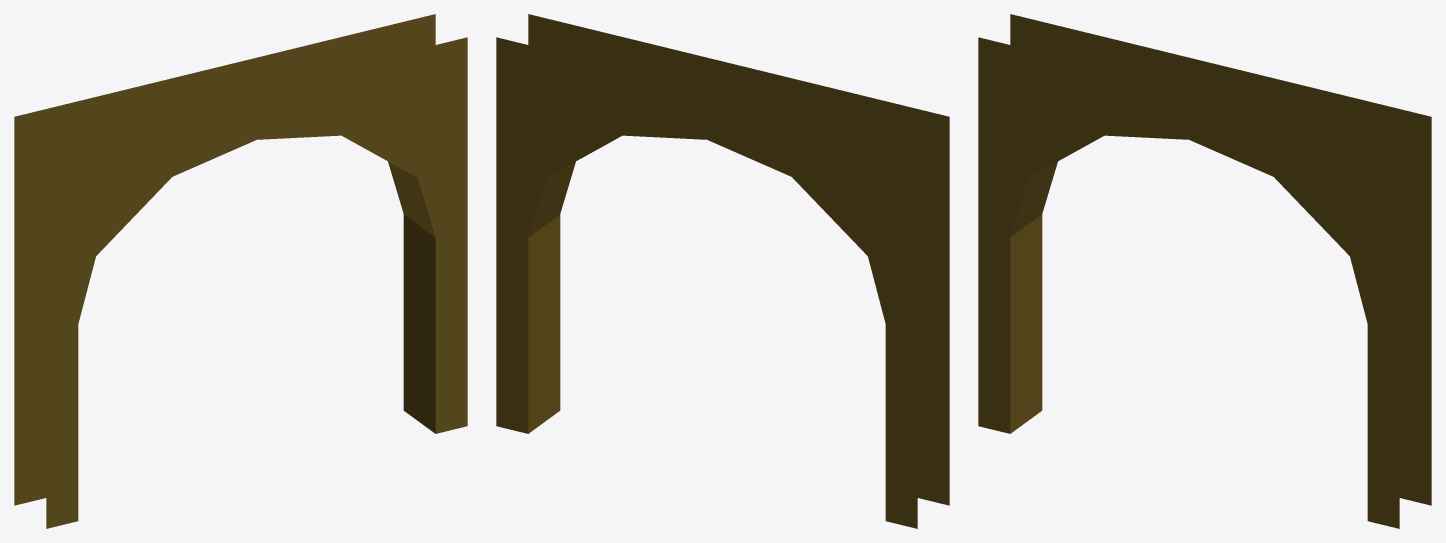
Rendered from Museum_Ark_01.fbx.
The picture shows the model from 3 angles, left to right: view 1: azimuth 30°, elevation 25°; view 2: azimuth 150°, elevation 25°; view 3: azimuth 330°, elevation 25°; orthographic projection.
Visible parts, largest first — view 1: Archi_Arches_02.001; view 2: Archi_Arches_02.001; view 3: Archi_Arches_02.001.
Part boxes in pixels (<box>): Archi_Arches_02.001: <box>14,14,467,528</box>; Archi_Arches_02.001: <box>496,14,949,528</box>; Archi_Arches_02.001: <box>978,14,1431,528</box>.
Bounding box in the file's own units: 522 × 461 × 68.35.
